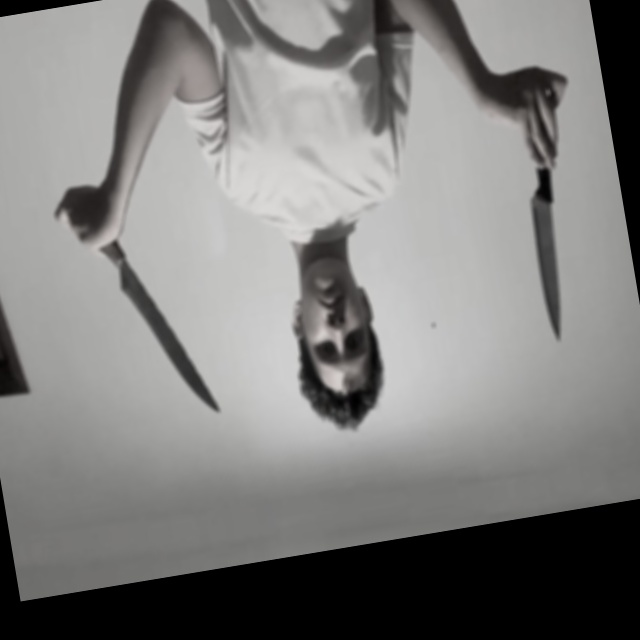Sharp-Object: (116, 259, 219, 425), (527, 199, 574, 345)
